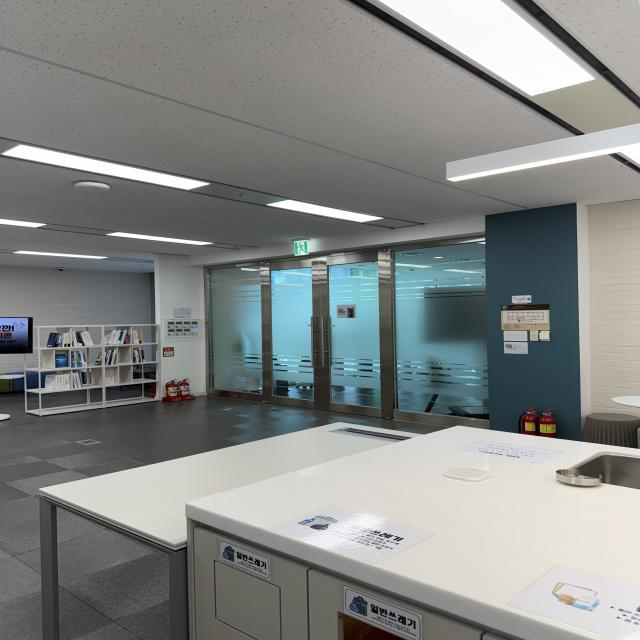front_door: (205, 236, 489, 429)
